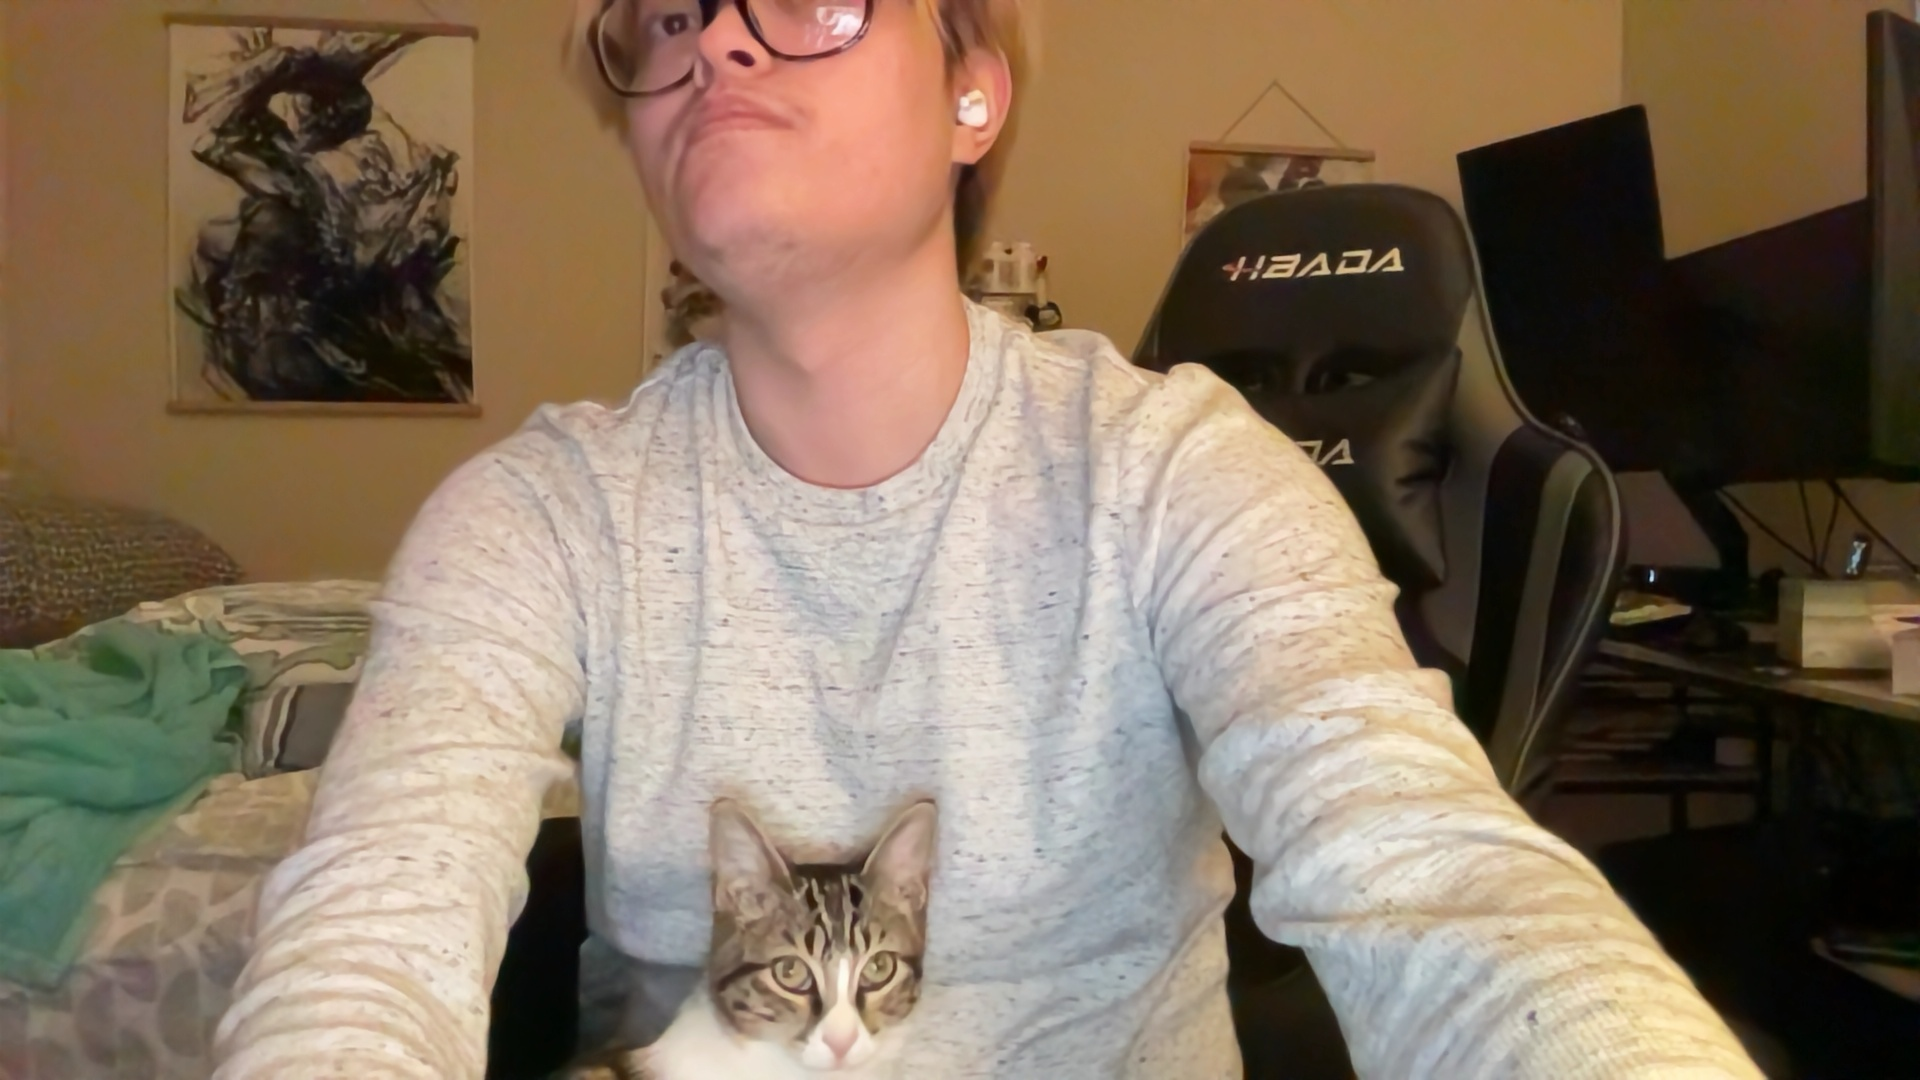cat: (553, 786, 947, 1080)
